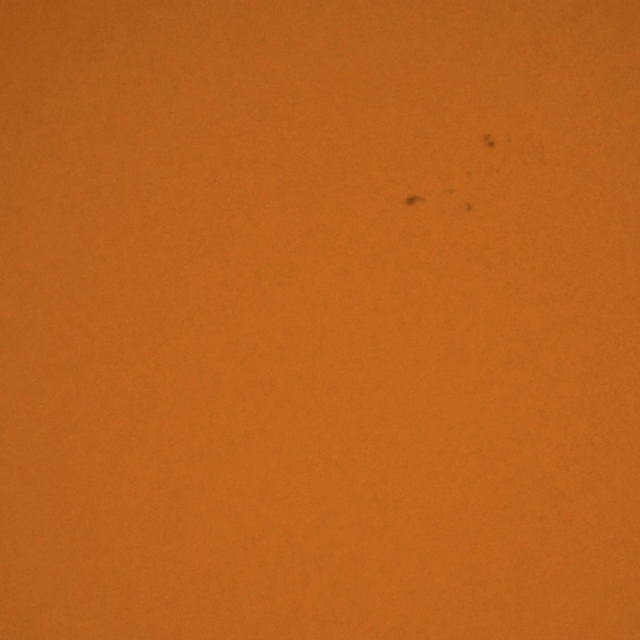sunspot: (481, 132, 496, 150), (403, 194, 422, 208), (464, 200, 474, 214)
